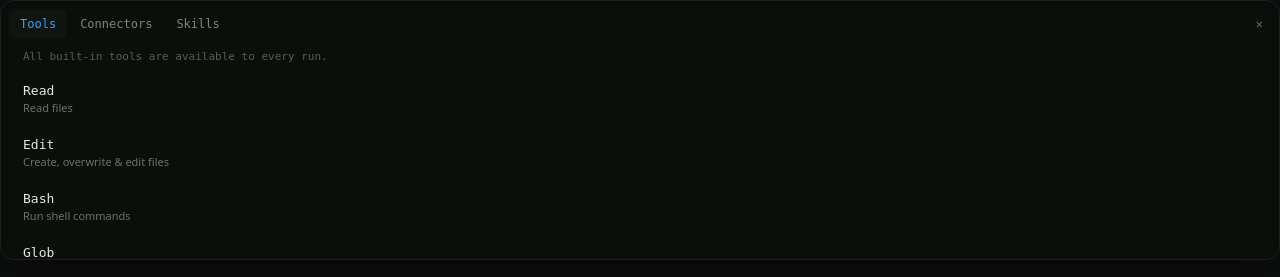
Test: SkillsPopover (read-only capability display) › lists discovered connectors with name + transport, and a toggle
What coordinates should you click on to do the following:
click the button "Connectors"
I would click on:
 (116, 24)
Its box is [69,9,163,39].
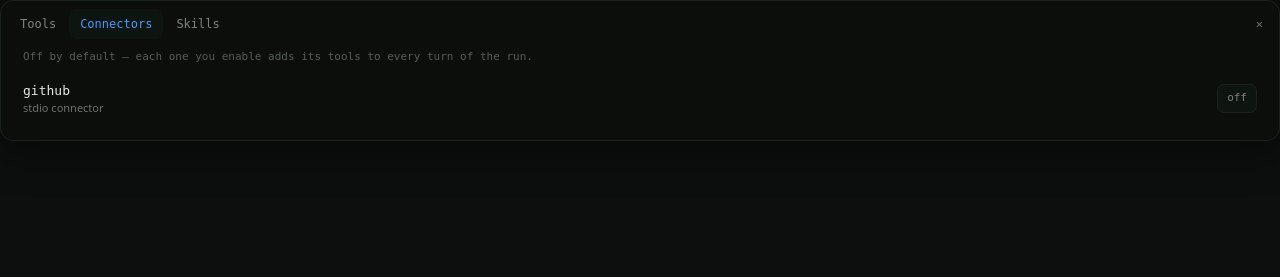
Expected: the element with test id "cap-item-github" shows "stdio connector", [23,100,104,115]
